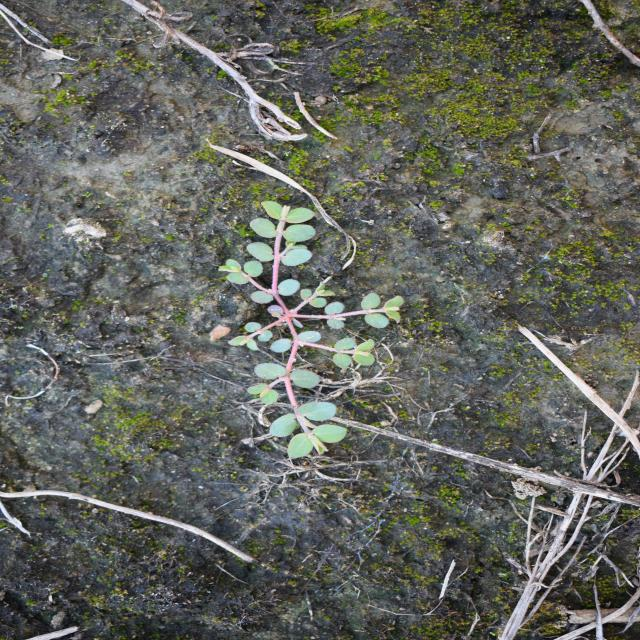SpottedSpurge: (214, 198, 408, 462)
